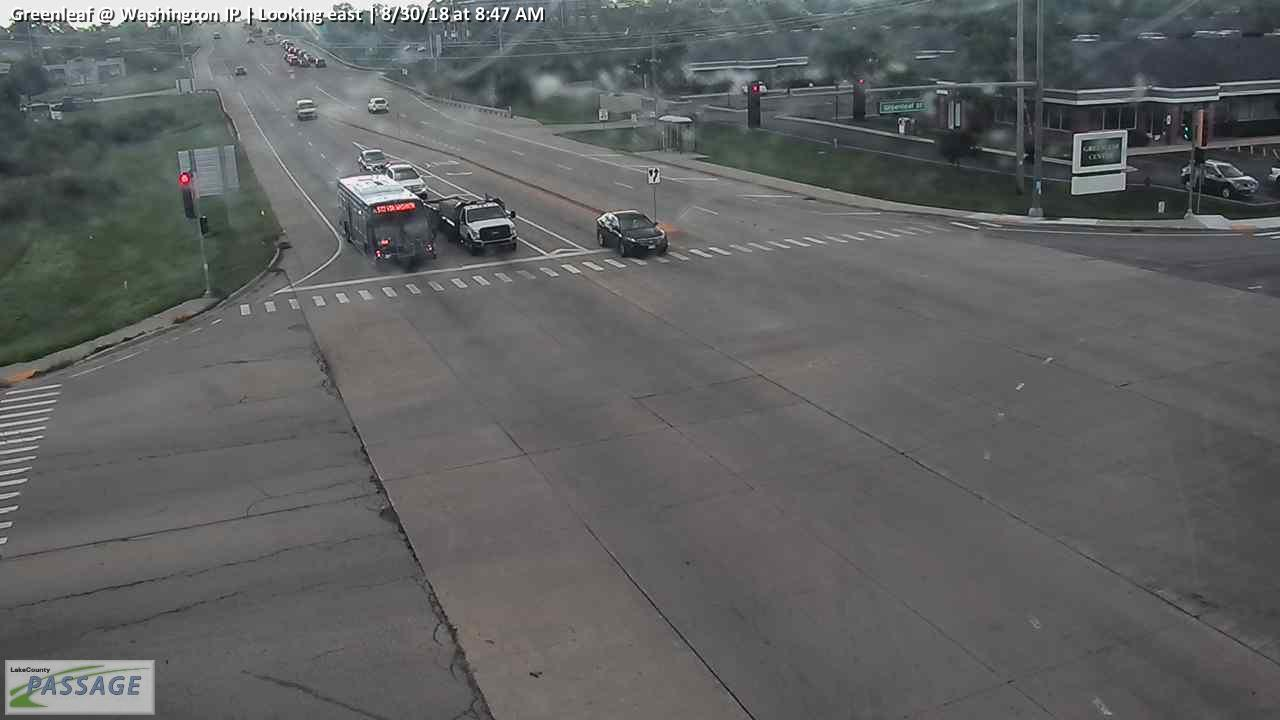Bus: (336, 174, 437, 266)
Sedan: (596, 208, 669, 256), (1182, 159, 1259, 198), (383, 163, 427, 198), (358, 149, 386, 174), (295, 99, 317, 119), (368, 96, 390, 112), (235, 64, 248, 74), (313, 57, 326, 67), (289, 56, 298, 65)
Truck: (428, 193, 518, 251)
